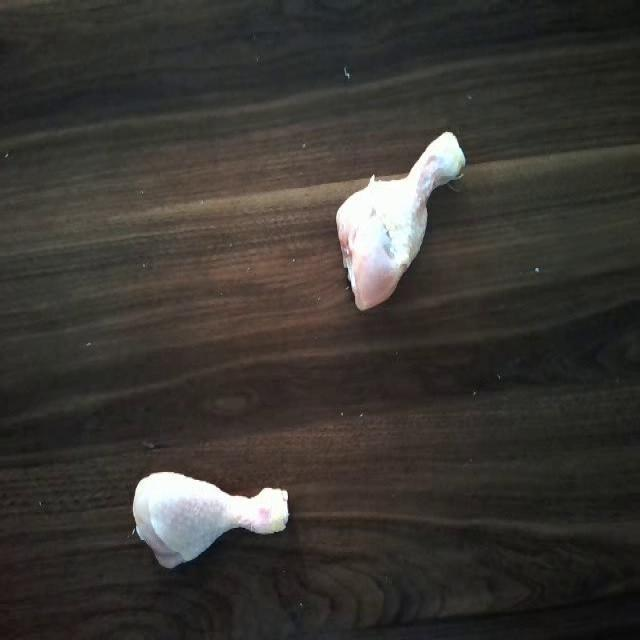leg: (332, 126, 466, 306), (134, 457, 296, 570)
